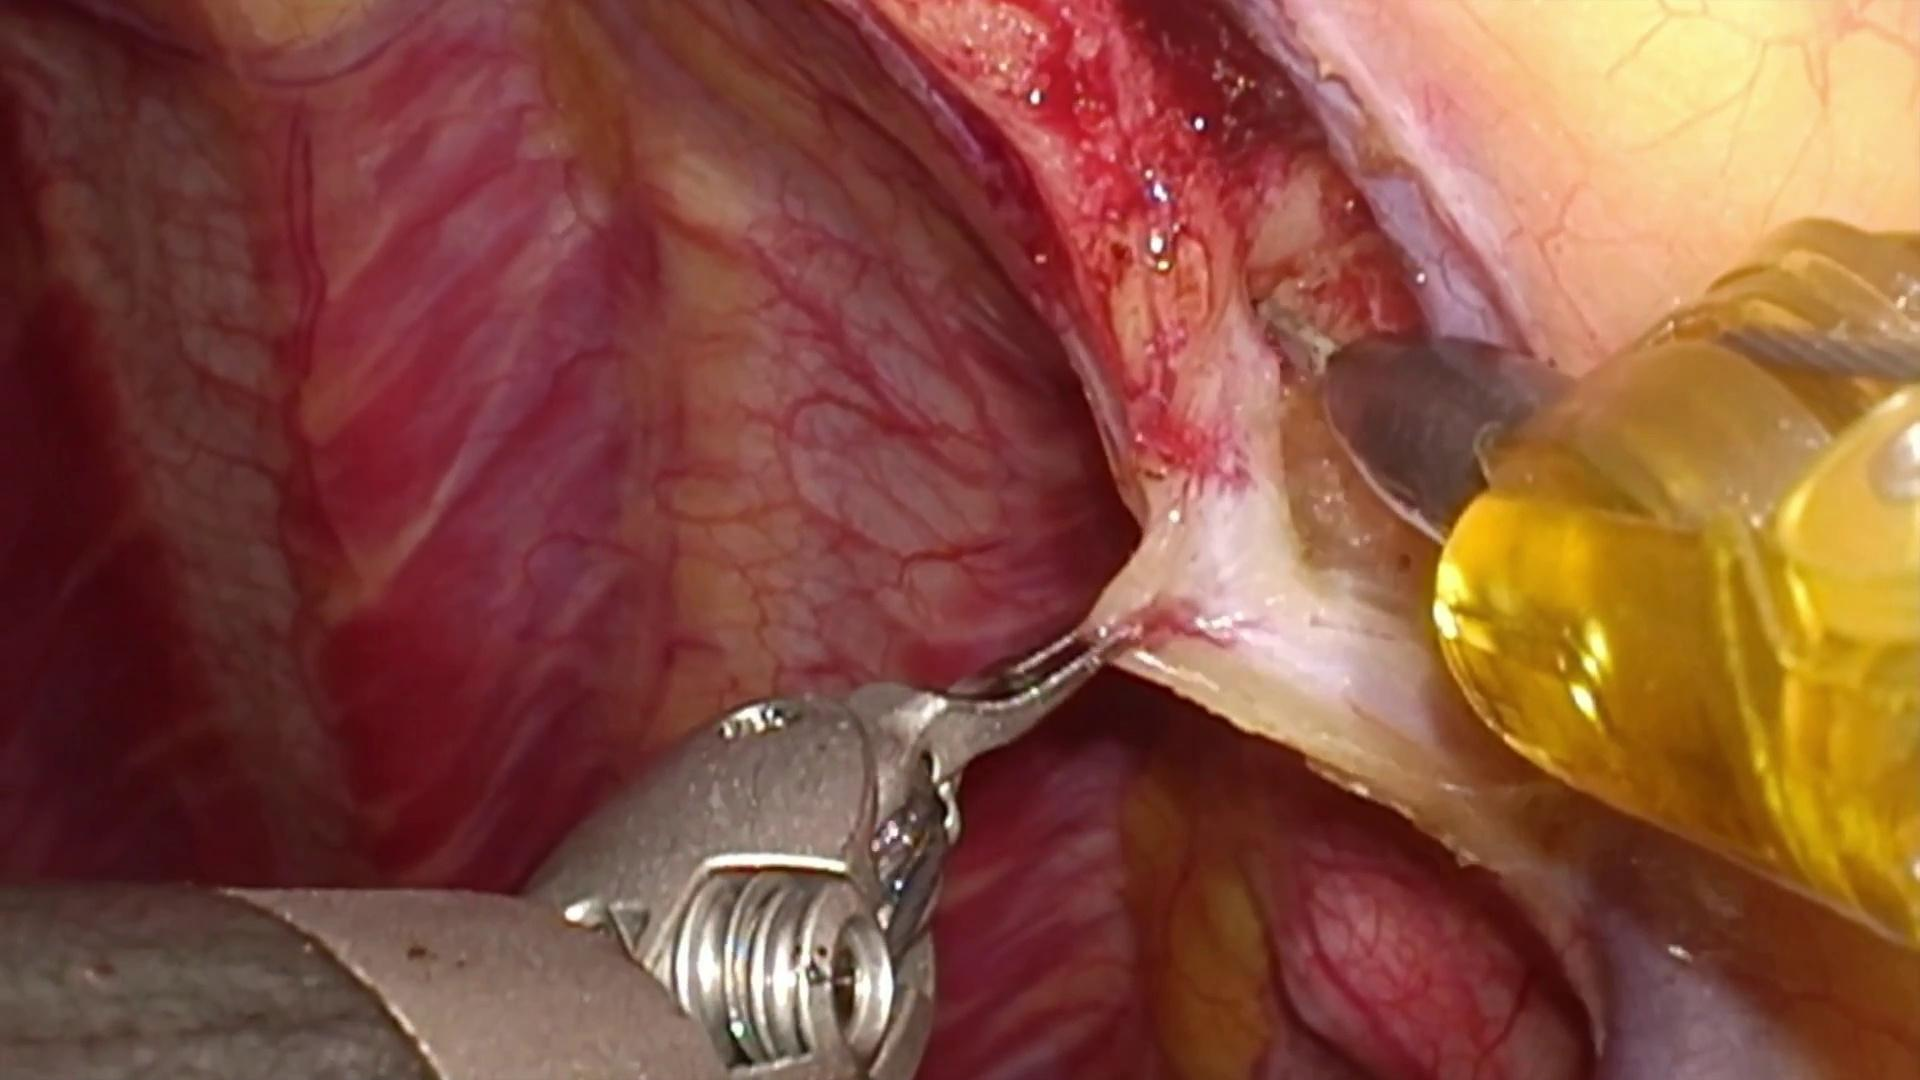Cautery_Spatula: (1244, 290, 1584, 546)
Debakey: (837, 584, 1131, 802)
